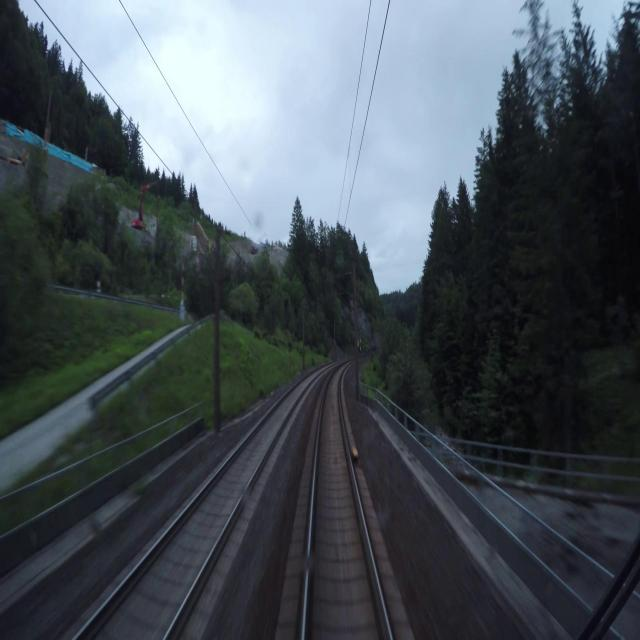rail-track: (79, 376, 311, 639), (306, 369, 389, 639)
